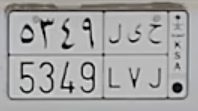3: (39, 18, 56, 95)
4: (60, 17, 75, 94)
5: (19, 23, 36, 95)
9: (79, 17, 96, 94)
J: (147, 22, 163, 89)
L: (107, 23, 123, 89)
V: (127, 23, 143, 89)
